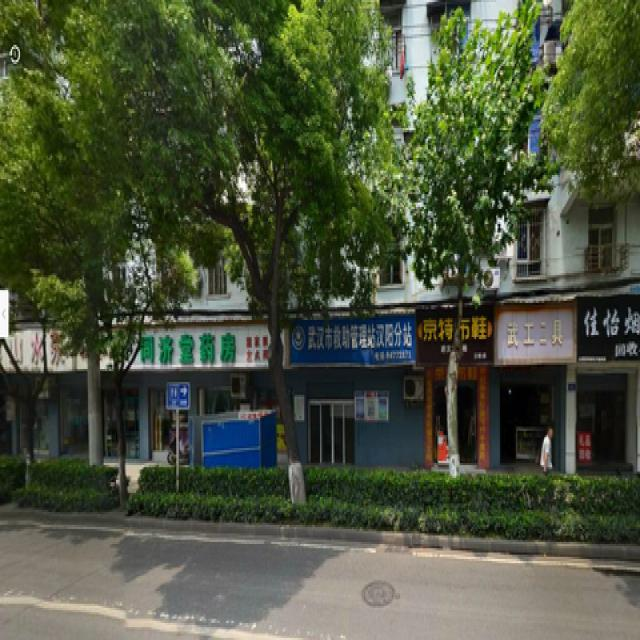cinn: (33, 30, 160, 486), (218, 21, 334, 486)
meta: (415, 51, 520, 508)
